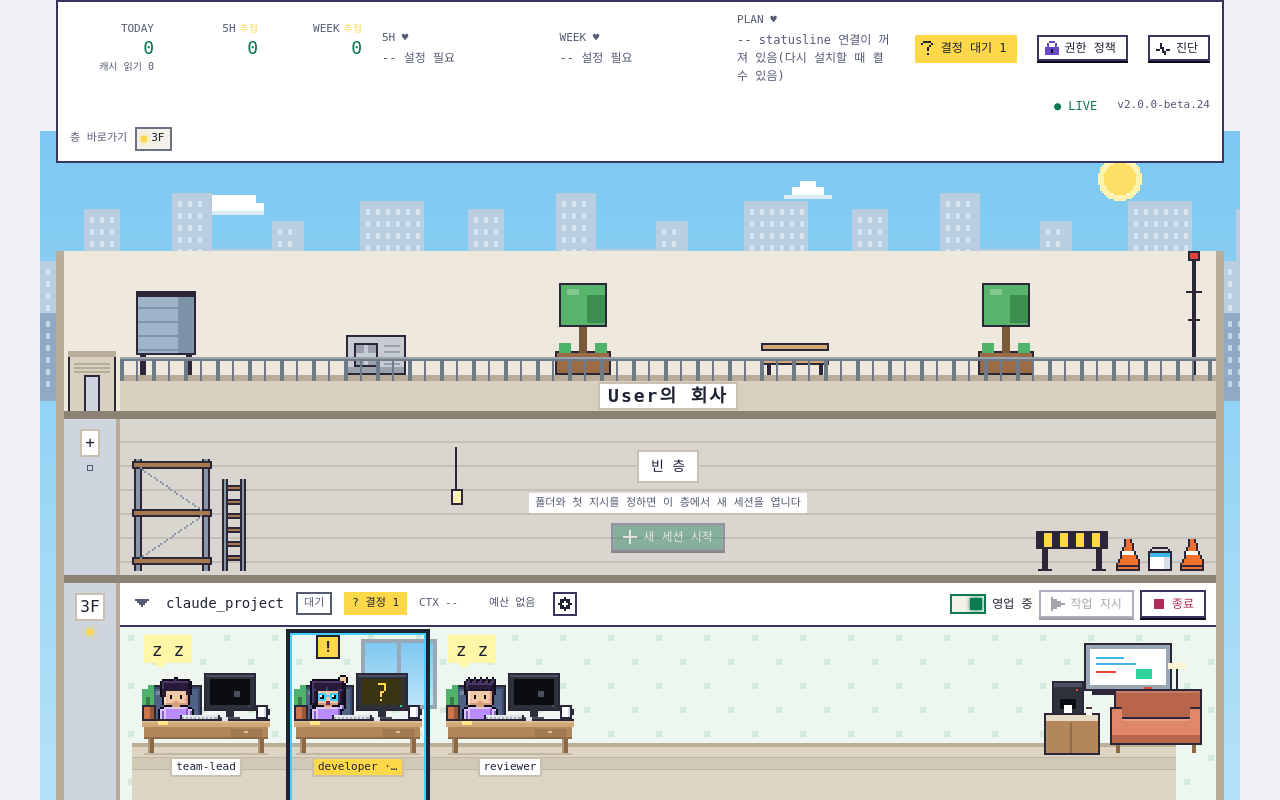
Test: 결정 보고서 열기 › Esc로 닫고 연 책상으로 포커스를 되돌린다
(page scrolled)
Click the button with aria-label "developer, 결정 필요" at coordinates (358, 717), box x1=292 y1=634 x2=424 y2=799
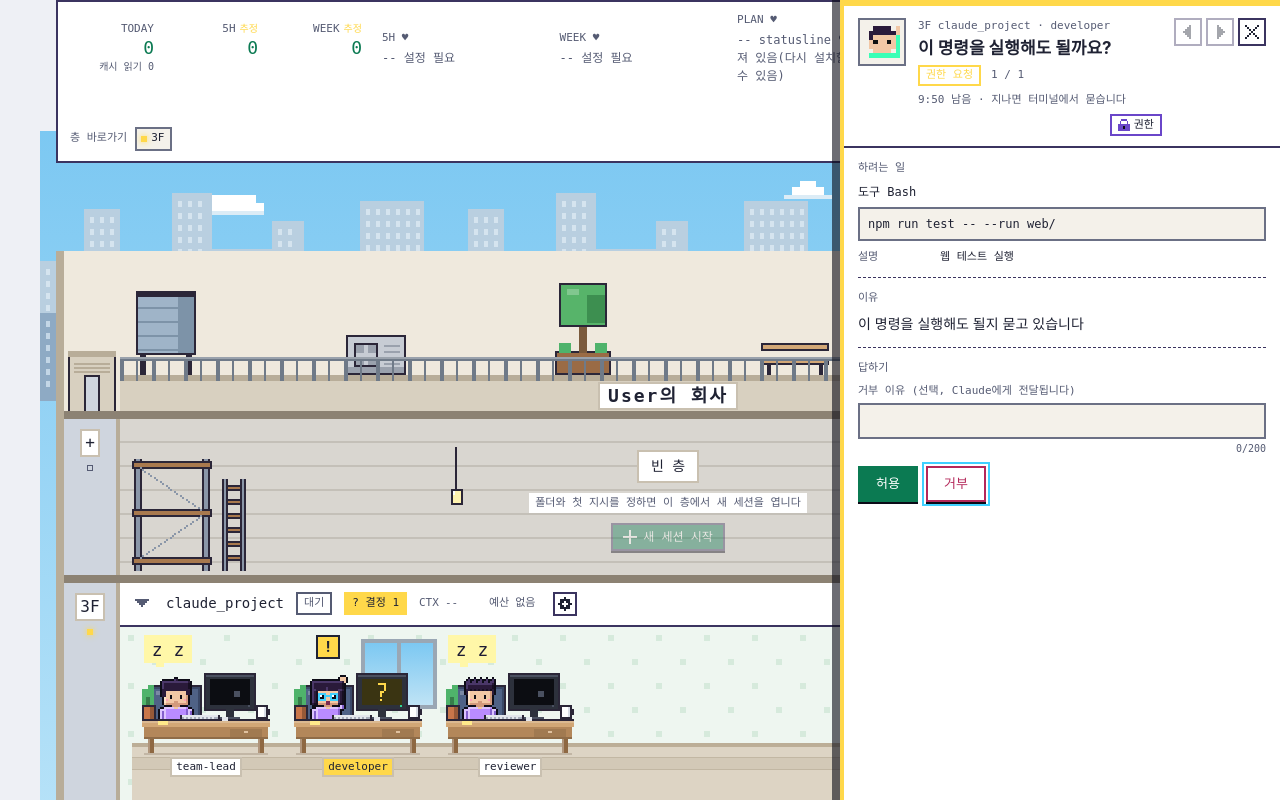
Press Escape
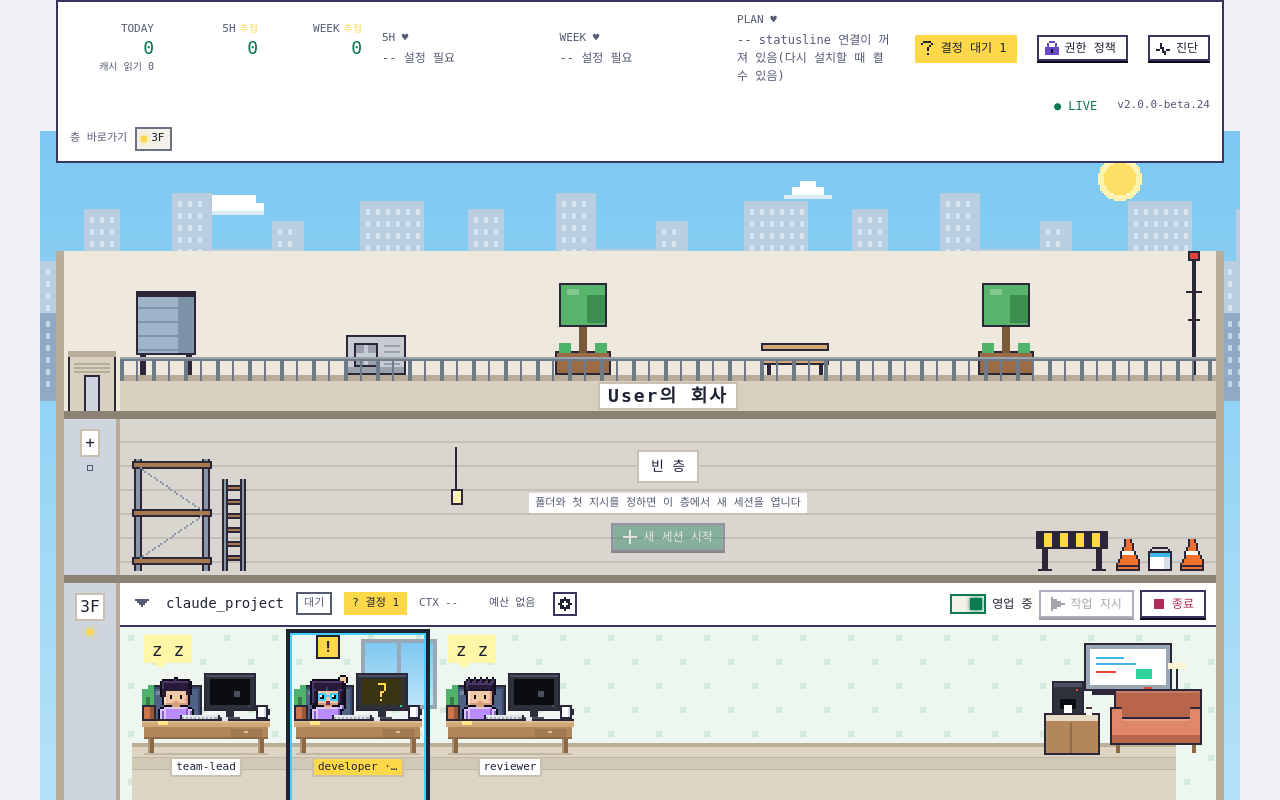
Now the dialog is gone
